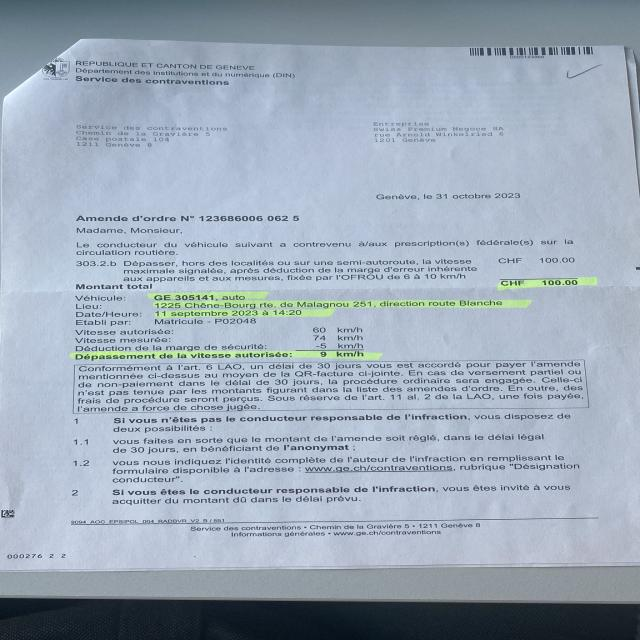paper-document-: (0, 41, 640, 570)
